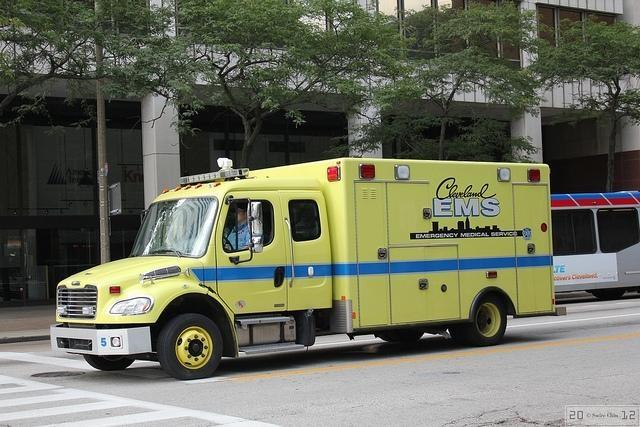bus: (551, 191, 640, 300)
truck: (48, 158, 570, 372)
